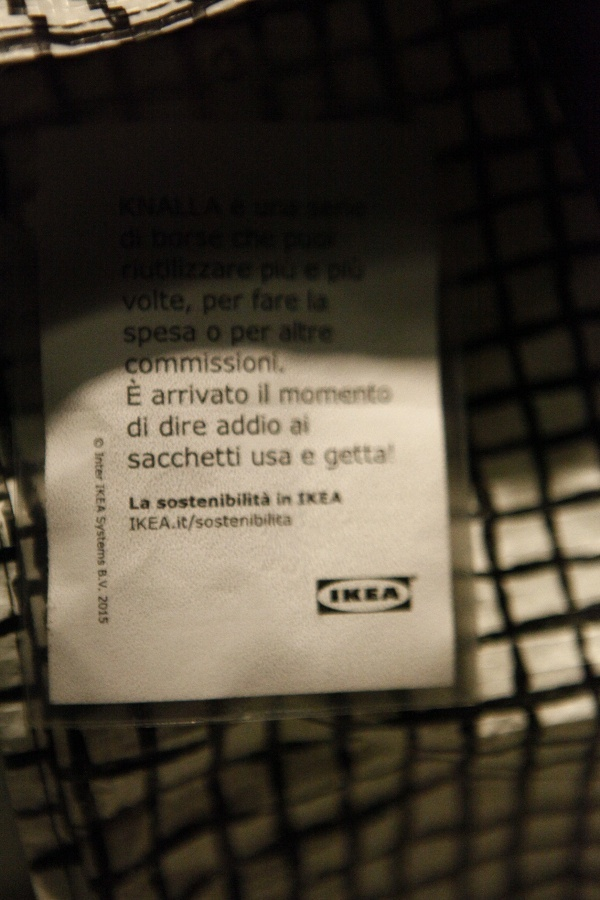text: (129, 195, 144, 292), (145, 195, 160, 292), (161, 195, 176, 292), (177, 195, 192, 292), (193, 195, 208, 292), (209, 195, 224, 292), (225, 195, 240, 292), (241, 195, 256, 292), (257, 195, 272, 292), (273, 195, 288, 292), (289, 195, 304, 292), (305, 195, 320, 292), (321, 195, 336, 292), (337, 195, 352, 292), (353, 195, 368, 292), (116, 195, 128, 292), (97, 516, 106, 567), (129, 375, 143, 407), (177, 289, 193, 316), (289, 319, 304, 347), (305, 319, 320, 347), (337, 445, 352, 473), (353, 445, 368, 473), (369, 445, 384, 473), (129, 289, 144, 316), (145, 289, 160, 316), (161, 289, 176, 316), (257, 290, 272, 317), (273, 290, 288, 317), (98, 596, 112, 624), (241, 325, 256, 351), (257, 325, 272, 351), (129, 415, 144, 441), (225, 412, 240, 437), (241, 412, 256, 437), (257, 412, 272, 437), (289, 383, 304, 408), (305, 383, 320, 408), (321, 383, 336, 408), (337, 383, 352, 408), (353, 383, 368, 408), (369, 383, 384, 408), (129, 446, 144, 470), (145, 446, 160, 470), (161, 446, 176, 470), (177, 446, 192, 470), (193, 446, 208, 470), (209, 446, 224, 470), (225, 446, 240, 470), (129, 352, 144, 375), (145, 352, 160, 375), (161, 352, 176, 375), (177, 352, 192, 375), (193, 352, 208, 375), (209, 352, 224, 375), (225, 352, 240, 375), (241, 352, 256, 375), (257, 352, 272, 375), (209, 293, 224, 316), (225, 293, 240, 316), (161, 384, 176, 407), (177, 384, 192, 407), (193, 384, 208, 407), (209, 384, 224, 407), (225, 384, 240, 407), (161, 415, 176, 438), (177, 415, 192, 438), (289, 414, 304, 437), (258, 381, 272, 405), (324, 445, 336, 473), (129, 325, 144, 347), (145, 325, 160, 347), (161, 325, 176, 347), (177, 325, 192, 347), (209, 322, 223, 345), (337, 584, 352, 605), (353, 584, 368, 605), (369, 584, 384, 605), (321, 319, 332, 347), (161, 492, 176, 512), (177, 492, 192, 512), (193, 492, 208, 512), (209, 492, 224, 512), (225, 492, 240, 512), (241, 492, 256, 512), (193, 415, 206, 438), (306, 293, 320, 314), (385, 584, 399, 605), (161, 514, 177, 532), (257, 449, 272, 468), (273, 449, 288, 468), (273, 352, 285, 375), (289, 290, 299, 317), (145, 514, 160, 532), (305, 490, 320, 508), (321, 490, 336, 508), (257, 492, 270, 512), (130, 514, 144, 532), (119, 289, 128, 316), (209, 515, 224, 531), (225, 515, 240, 531), (241, 515, 256, 531), (257, 515, 272, 531), (273, 515, 288, 531), (130, 496, 144, 513), (231, 325, 240, 351), (97, 484, 105, 513), (305, 446, 315, 469), (385, 383, 394, 408), (97, 452, 104, 482), (277, 490, 288, 509), (241, 384, 250, 407), (216, 412, 224, 437), (281, 319, 288, 347), (152, 384, 160, 407), (197, 515, 208, 531), (273, 412, 280, 437), (281, 383, 288, 408), (177, 516, 187, 532), (98, 581, 112, 591), (202, 293, 208, 316), (98, 571, 112, 580), (321, 293, 327, 314), (330, 584, 336, 605), (298, 490, 304, 508), (145, 496, 151, 513), (251, 449, 256, 468), (305, 414, 309, 437), (337, 490, 342, 508), (124, 325, 128, 347), (385, 445, 388, 473), (253, 290, 256, 317), (145, 415, 148, 441), (188, 515, 192, 534), (125, 352, 128, 375), (241, 293, 244, 316), (289, 490, 292, 509), (95, 516, 96, 567), (302, 446, 304, 469), (193, 325, 195, 347), (158, 492, 160, 512), (193, 515, 195, 534), (127, 375, 128, 407), (289, 515, 291, 531), (95, 452, 96, 482), (159, 415, 160, 438), (289, 449, 290, 468), (175, 516, 176, 532)
